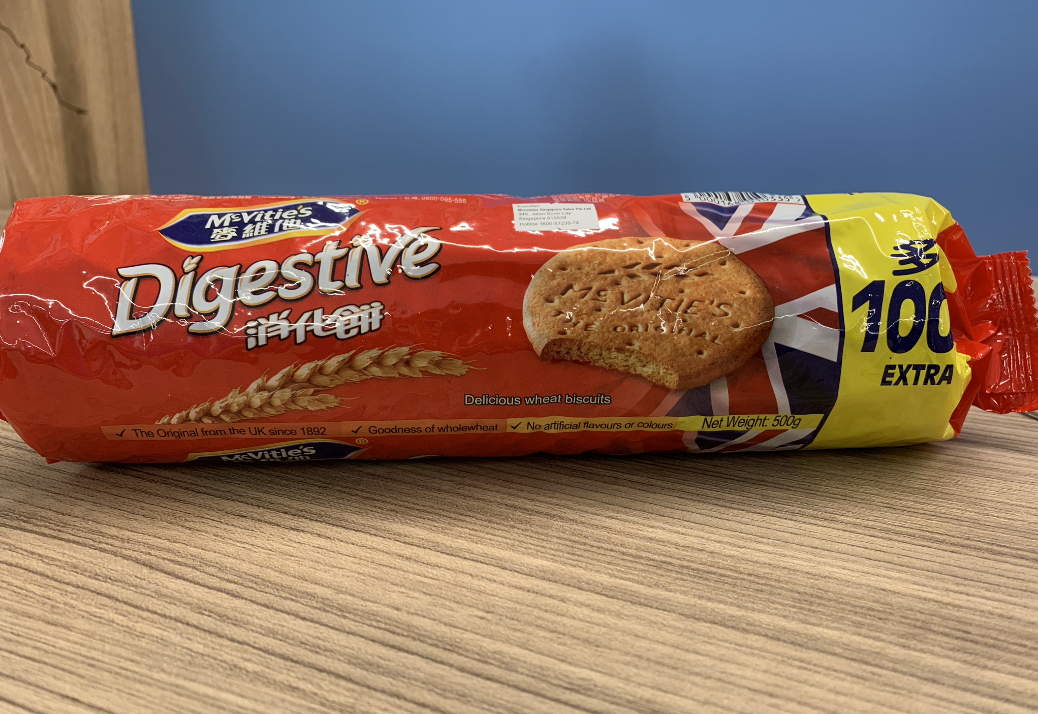cookies_450g: (70, 204, 960, 431)
